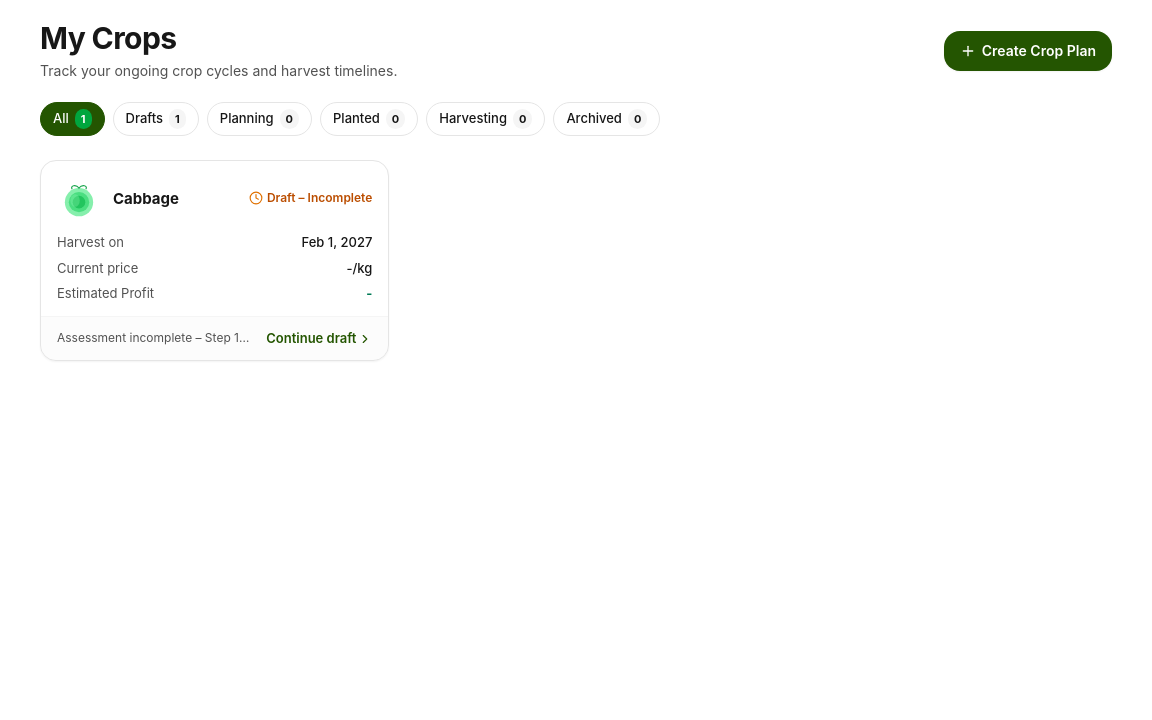
Test case: Crop assessment offline behaviour › resumes a device-only draft prefilled instead of dropping it on the entry screen
This screenshot has width=1152, height=720.
Click the button "Continue draft" at (319, 339), box [266, 329, 372, 348]
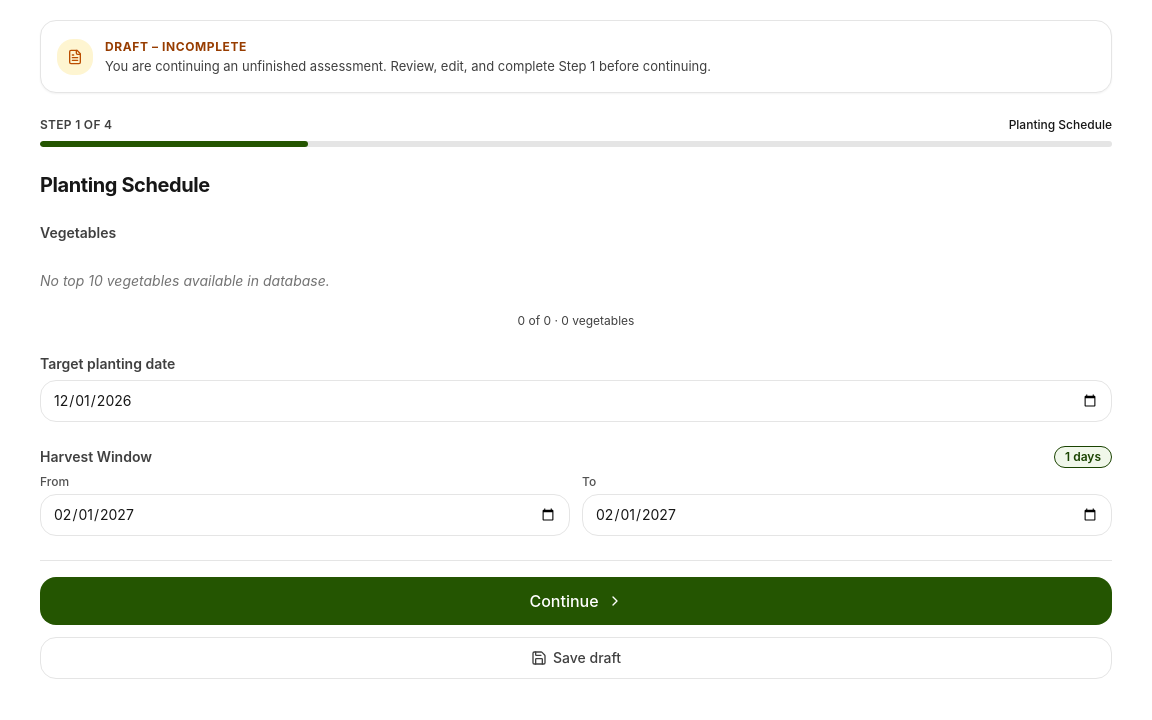
Expected: the text "Draft – Incomplete" is shown, [105, 39, 247, 54]
Now the date field showing "2026-12-01" is shown, box [40, 380, 1112, 422]
